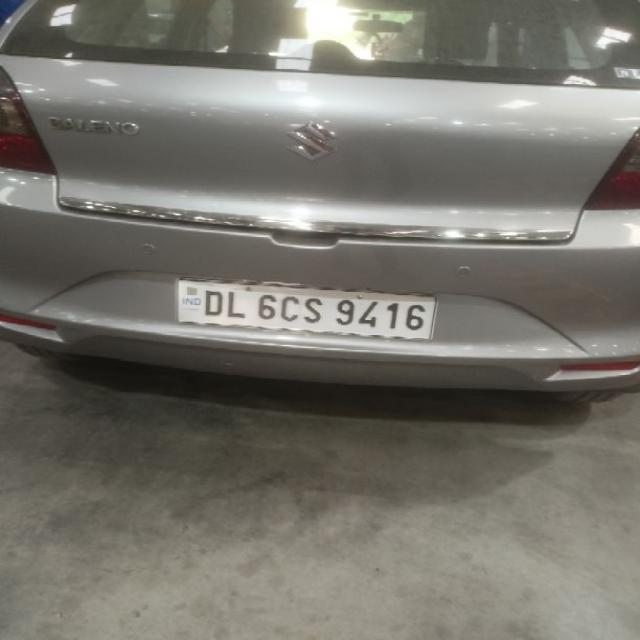license_plate: (175, 276, 438, 340)
